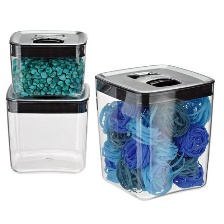plastic_box: (90, 58, 220, 204), (1, 77, 93, 178), (3, 24, 92, 102)
